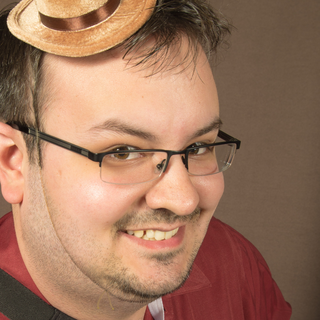eye: (102, 141, 147, 167), (184, 136, 213, 158)
